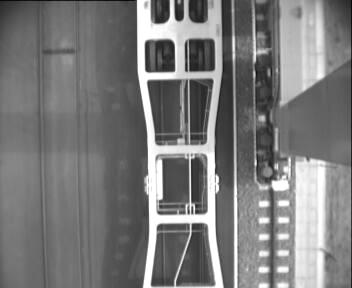twist_lock_2: (145, 1, 212, 27)
